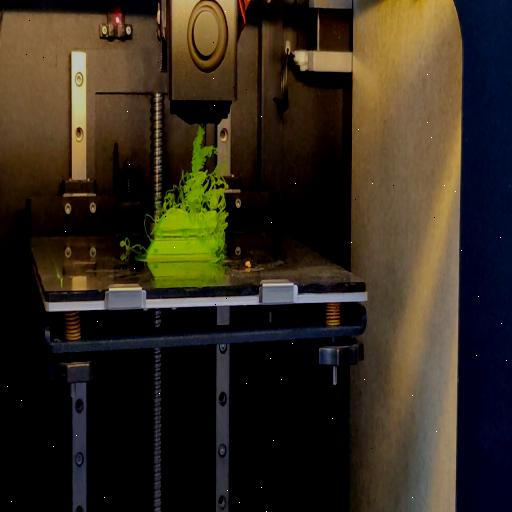spaghetti: (160, 122, 228, 214), (216, 212, 226, 264), (120, 238, 144, 252), (144, 212, 154, 244)
